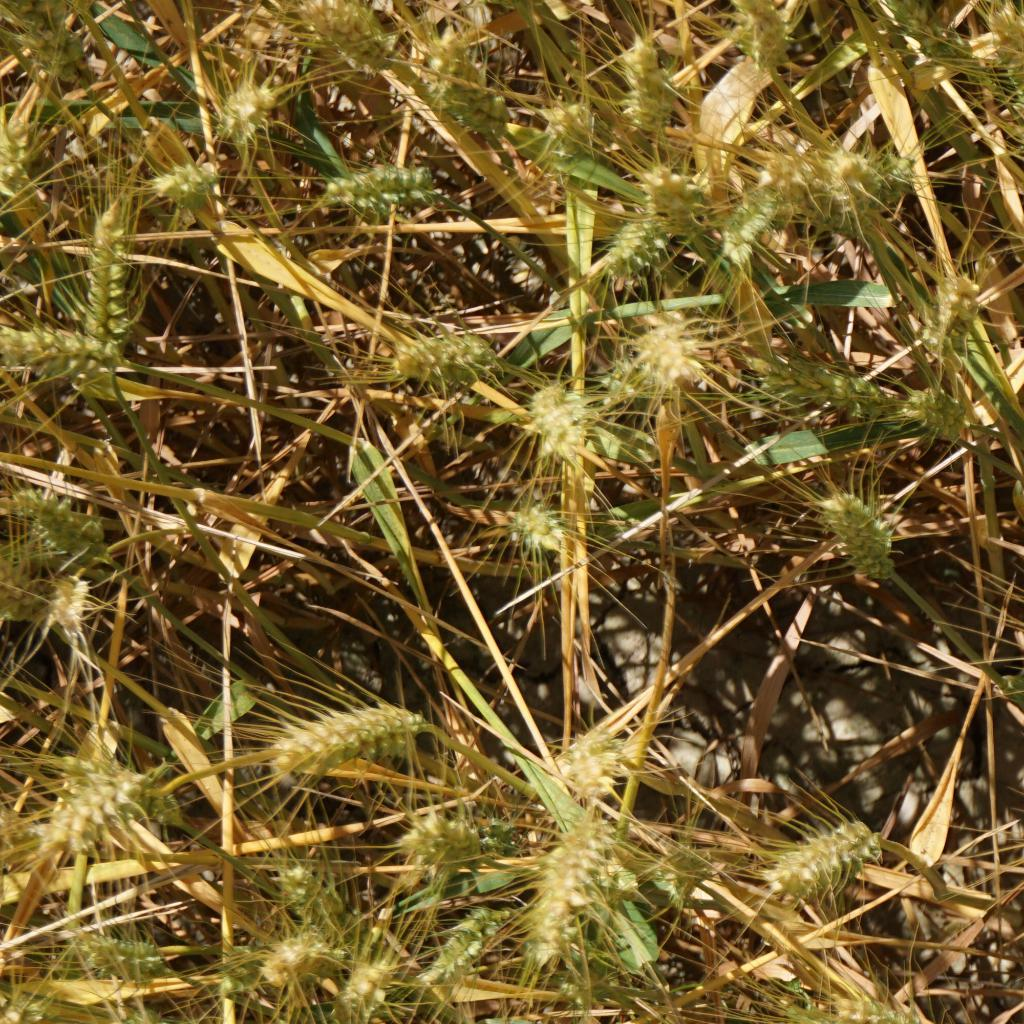0-0: (265, 699, 433, 776), (62, 201, 138, 358), (757, 148, 870, 246), (69, 735, 190, 824), (418, 30, 514, 136), (531, 815, 605, 948), (15, 485, 126, 572), (757, 815, 882, 891), (748, 345, 883, 415), (817, 484, 904, 586), (301, 0, 408, 81), (312, 157, 445, 222), (0, 556, 96, 638), (14, 0, 97, 90), (878, 0, 978, 71), (197, 64, 286, 143), (389, 318, 502, 380), (41, 769, 141, 839), (613, 30, 678, 136), (714, 175, 793, 261), (916, 266, 990, 355), (0, 330, 123, 379), (432, 898, 503, 977), (79, 916, 179, 972), (404, 801, 483, 871), (622, 314, 707, 379), (491, 495, 580, 557), (591, 209, 669, 275), (563, 719, 626, 798), (735, 0, 798, 76), (274, 862, 344, 929), (986, 0, 1024, 123), (328, 954, 408, 1012), (257, 929, 335, 986), (534, 89, 610, 146), (148, 152, 224, 208), (647, 841, 717, 899), (525, 385, 586, 449), (824, 146, 890, 205), (857, 154, 934, 202), (898, 387, 970, 437), (849, 993, 961, 1024), (201, 930, 253, 994), (645, 163, 701, 222), (1004, 123, 1024, 199), (768, 1005, 845, 1024), (95, 1007, 166, 1024)
